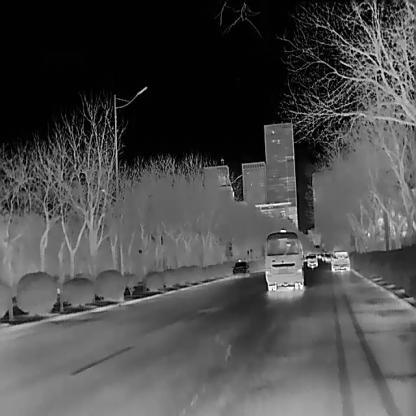car: (265, 227, 302, 291), (330, 250, 350, 273), (231, 260, 249, 276), (306, 252, 317, 267)
